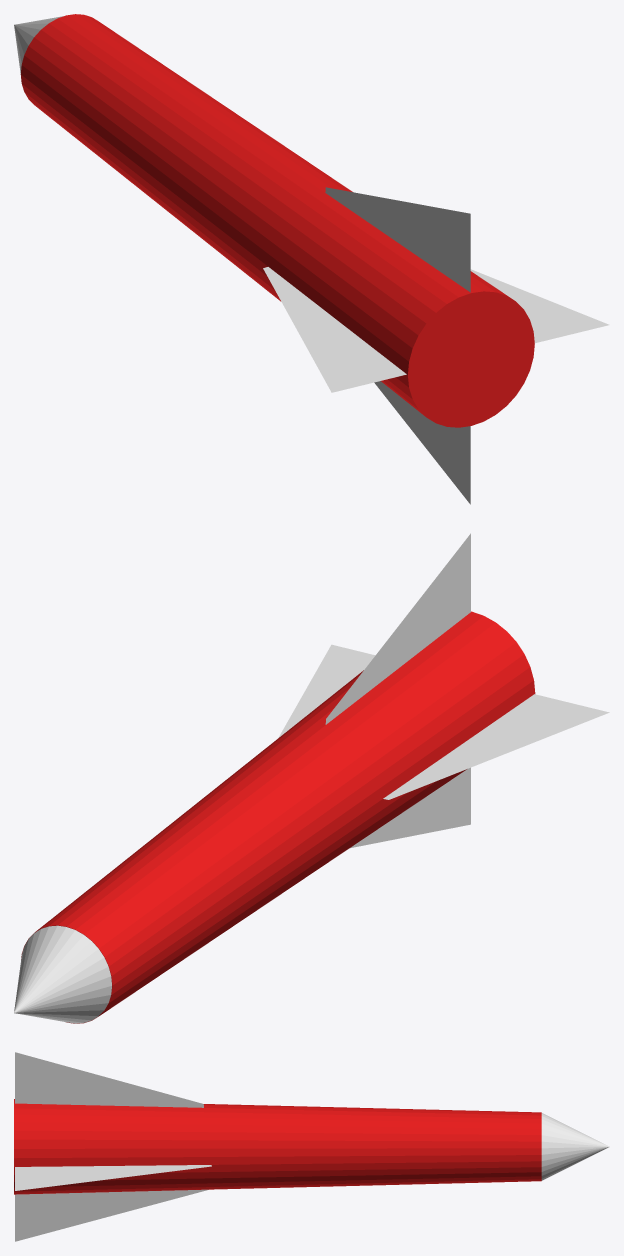
The model's file is Rocket.fbx.
The picture shows the model from 3 angles, top to bottom: view 1: azimuth 30°, elevation 25°; view 2: azimuth 150°, elevation 25°; view 3: azimuth 270°, elevation 25°; orthographic projection. The views are drawn at different scales.
Visible parts, largest first — view 1: Cylinder, Plane.001, Plane, Cone; view 2: Cylinder, Plane.001, Plane, Cone; view 3: Cylinder, Plane.001, Plane, Cone.
Boxes of the visible parts, x1,y1,x2,y2 form: Cylinder: [20, 14, 534, 427]; Plane.001: [325, 187, 470, 504]; Plane: [263, 267, 609, 392]; Cone: [14, 16, 63, 73]; Cylinder: [21, 611, 535, 1023]; Plane.001: [325, 533, 470, 848]; Plane: [278, 644, 609, 799]; Cone: [14, 925, 111, 1023]; Cylinder: [14, 1099, 541, 1194]; Plane.001: [15, 1052, 208, 1241]; Plane: [15, 1165, 211, 1190]; Cone: [541, 1113, 609, 1180].
Bounding box in the file's own units: 438 × 438 × 1247.
